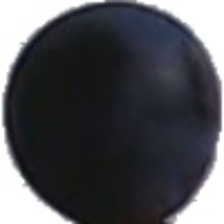grapes: (8, 29, 201, 218)
